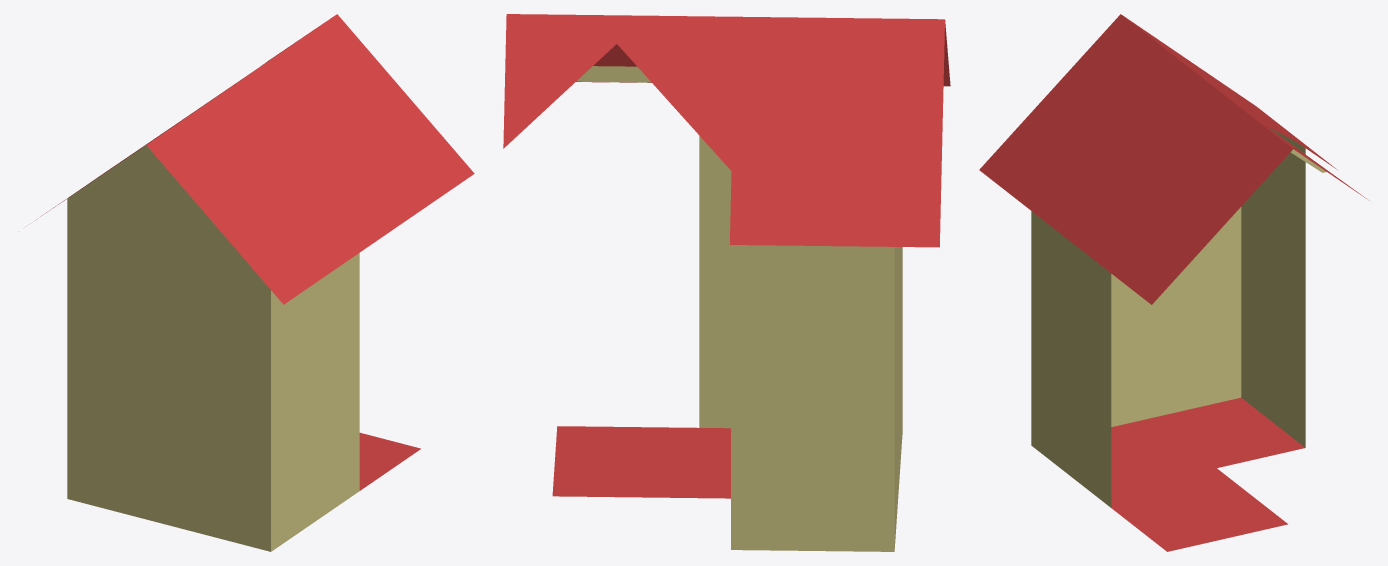
3 views of the same model, side by side, from view 1: azimuth 30°, elevation 25°; view 2: azimuth 150°, elevation 25°; view 3: azimuth 270°, elevation 25° (orthographic). The views are drawn at different scales.
Bounding box in the file's own units: 18.28 × 15.36 × 16.86.
